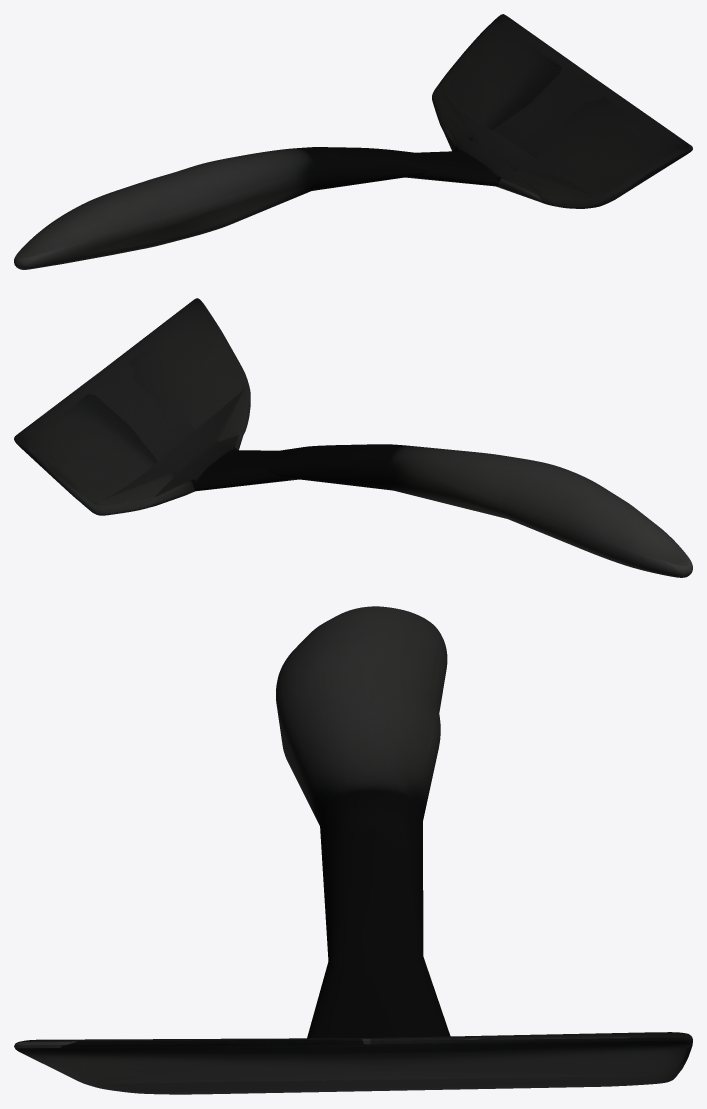
The model's file is hunyuan_recon.glb.
3 views of the same model, one above another, from view 1: azimuth 30°, elevation 25°; view 2: azimuth 150°, elevation 25°; view 3: azimuth 270°, elevation 25° (orthographic). The views are drawn at different scales.
Parts seen in each view (by area): view 1: world; view 2: world; view 3: world.
Boxes of the visible parts, left/top/right/bottom form: world: left=14, top=14, right=692, bottom=269; world: left=14, top=298, right=692, bottom=577; world: left=14, top=606, right=692, bottom=1094.
Size of the model in its own units: 0.2907 by 0.0372 by 0.1608.
Materials: 1 (1 with a texture image).
